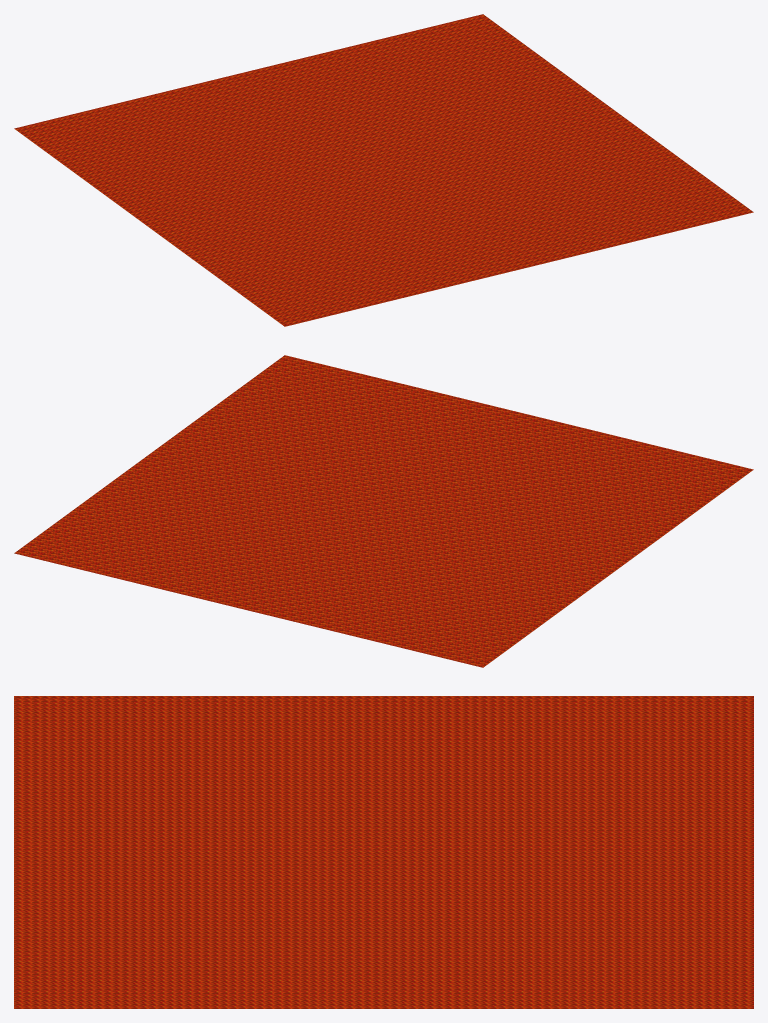
The model's file is lava.fbx.
3 views of the same model, one above another, from view 1: azimuth 30°, elevation 25°; view 2: azimuth 150°, elevation 25°; view 3: azimuth 270°, elevation 25° (orthographic). The views are drawn at different scales.
Visible parts, largest first — view 1: lava_mat; view 2: lava_mat; view 3: lava_mat.
Boxes of the visible parts, bbox=[...] form: lava_mat: bbox=[14, 14, 753, 326]; lava_mat: bbox=[14, 355, 753, 667]; lava_mat: bbox=[14, 696, 753, 1008].
Size of the model in its own units: 1000 by 0 by 1000.
